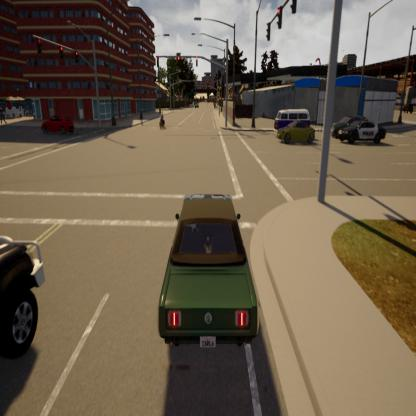Cars: (160, 193, 256, 349), (0, 234, 46, 362), (338, 121, 386, 146), (278, 121, 316, 147), (331, 114, 367, 138), (274, 108, 310, 128), (41, 114, 73, 134), (158, 112, 166, 130)
Pedestrian: (0, 101, 7, 126)
